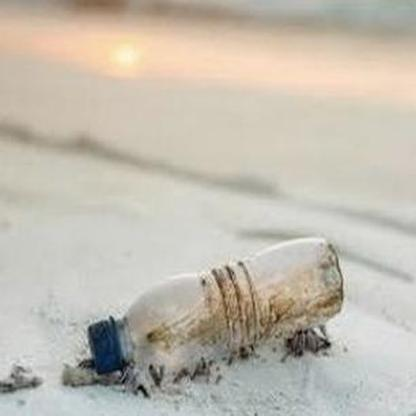plastic bottle: (86, 236, 345, 374)
